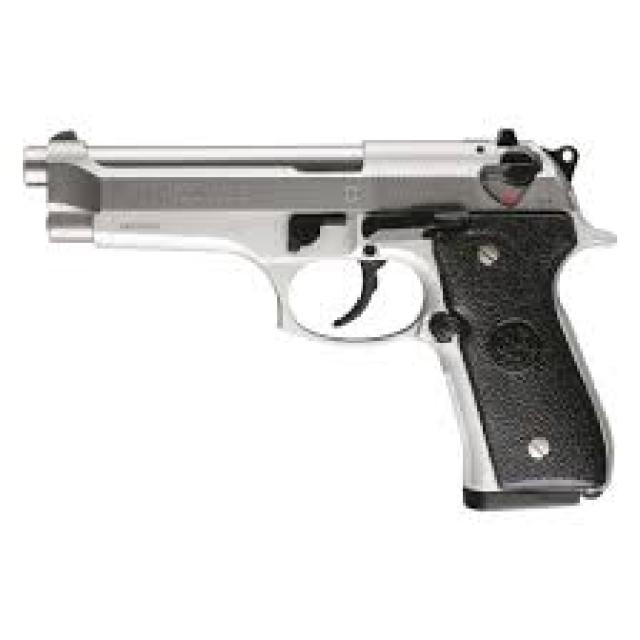pistol: (14, 116, 632, 521)
